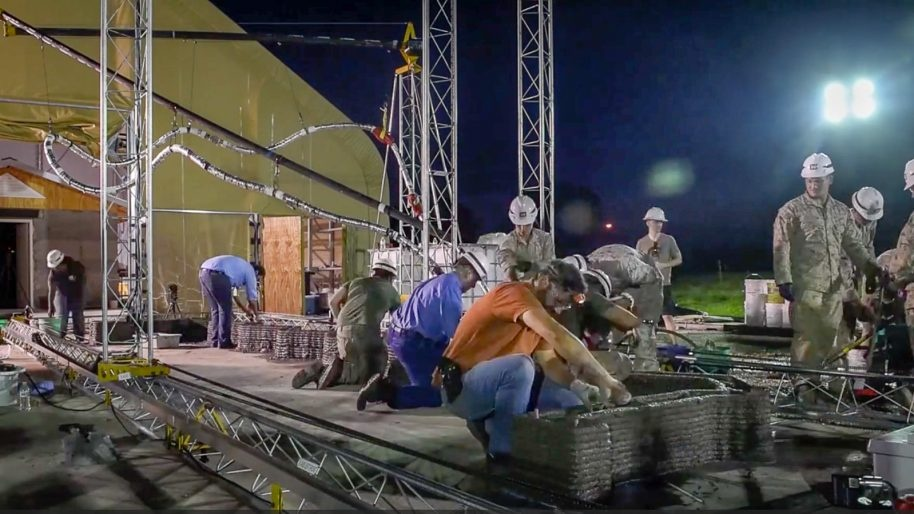none: (533, 261, 584, 316), (247, 261, 266, 283)
white: (801, 151, 835, 198), (848, 185, 885, 227), (454, 250, 489, 288), (507, 194, 536, 235), (371, 257, 397, 283), (43, 247, 67, 273), (643, 206, 665, 234)
